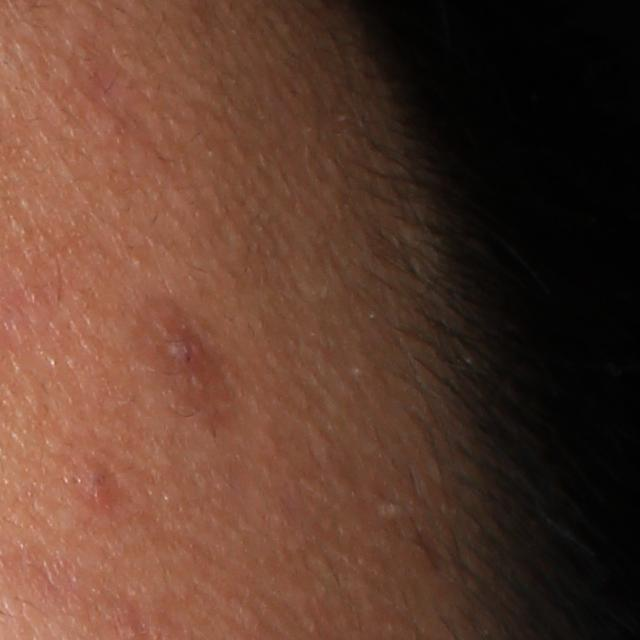atrophic_scar: (66, 26, 169, 172)
papule: (67, 457, 122, 514), (162, 331, 206, 378)
